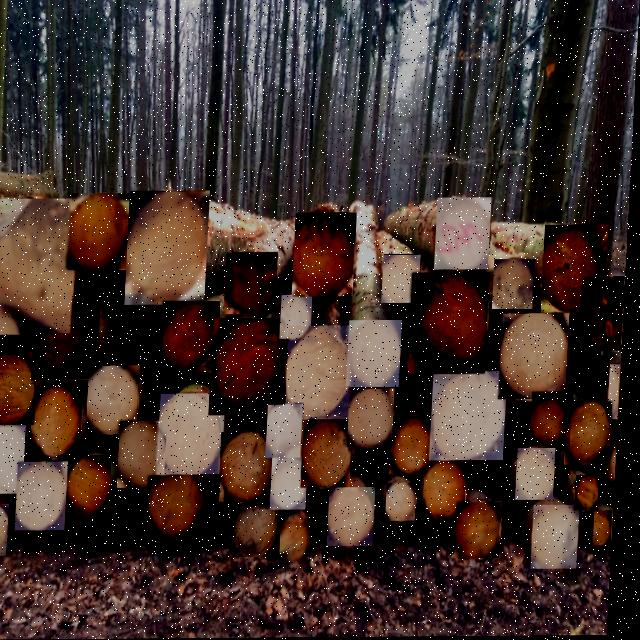wood-log: (0, 199, 79, 334), (130, 192, 210, 305), (415, 274, 491, 374), (216, 318, 288, 415), (436, 373, 510, 461), (291, 326, 354, 419), (504, 315, 572, 400), (546, 226, 608, 313), (37, 299, 102, 379), (163, 394, 227, 475), (297, 214, 356, 297), (73, 194, 130, 269), (165, 302, 222, 374), (438, 198, 492, 270), (225, 432, 276, 502), (36, 386, 85, 458), (352, 321, 405, 387), (21, 462, 72, 530), (92, 367, 142, 434), (307, 420, 356, 488), (229, 253, 279, 315), (124, 421, 170, 488), (537, 506, 585, 570), (155, 476, 206, 536), (585, 278, 626, 350), (0, 352, 40, 425), (571, 403, 616, 464), (334, 488, 380, 546), (352, 390, 398, 448), (429, 461, 471, 521), (461, 503, 506, 559), (72, 457, 114, 515), (397, 416, 438, 475), (0, 420, 30, 494), (239, 509, 284, 557), (536, 393, 575, 446), (521, 449, 560, 501), (497, 260, 537, 310), (276, 459, 313, 510), (386, 256, 423, 304), (272, 406, 306, 458), (284, 296, 315, 339), (391, 483, 422, 522), (286, 523, 315, 561), (581, 477, 603, 510), (0, 505, 14, 553), (599, 512, 618, 547), (612, 365, 623, 420), (611, 449, 621, 479)
